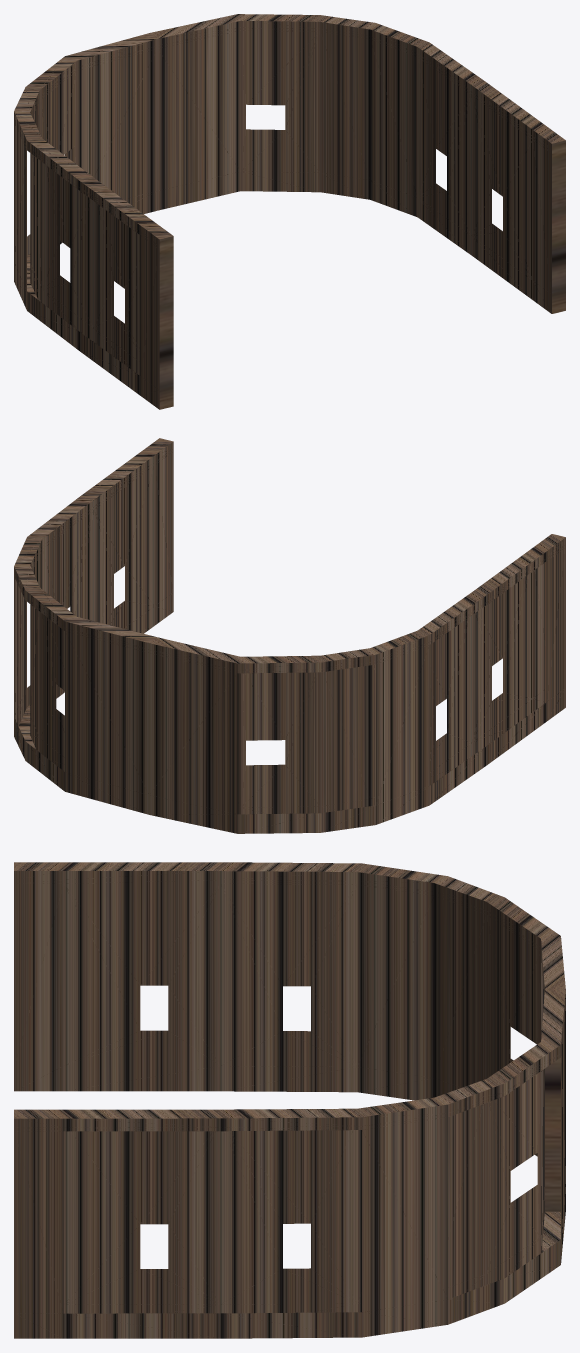
The model's file is ParedesAcuario.fbx.
The picture shows the model from 3 angles, top to bottom: view 1: azimuth 30°, elevation 25°; view 2: azimuth 150°, elevation 25°; view 3: azimuth 270°, elevation 25°; orthographic projection. The views are drawn at different scales.
Parts seen in each view (by area): view 1: Pared; view 2: Pared; view 3: Pared.
Part boxes in pixels (bbox=[...]): Pared: bbox=[14, 14, 565, 409]; Pared: bbox=[14, 438, 565, 833]; Pared: bbox=[14, 862, 565, 1338].
Bounding box in the file's own units: 7943 × 3208 × 7227.
1 material, 1 textured.
